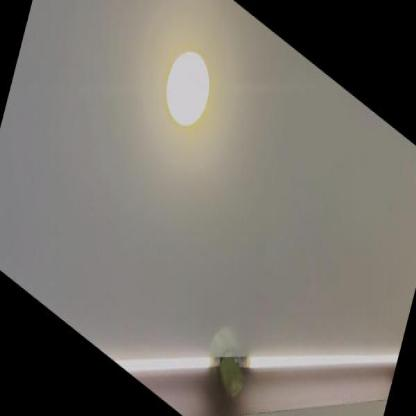light_on: (154, 27, 222, 155)
